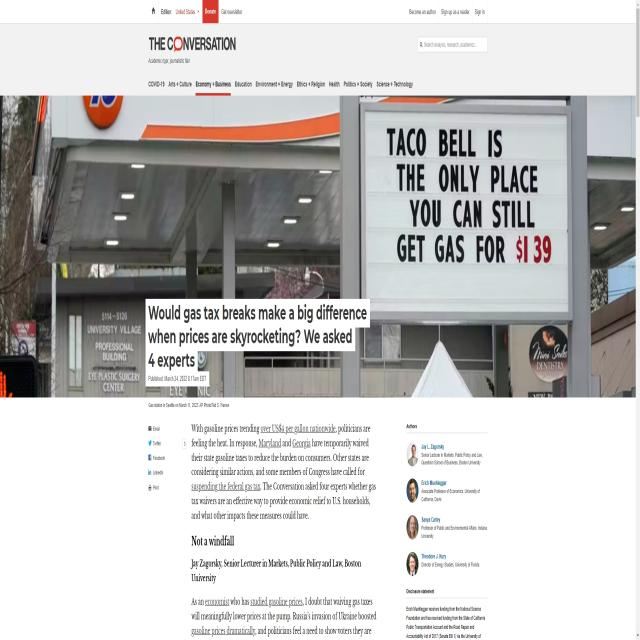search: (417, 35, 486, 54)
tab-bar: (146, 70, 418, 93), (157, 1, 243, 25)
